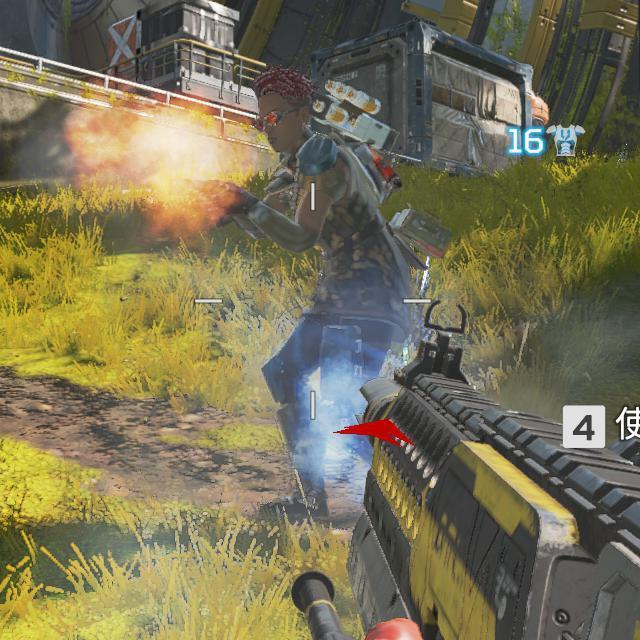avatar: (211, 66, 420, 524)
